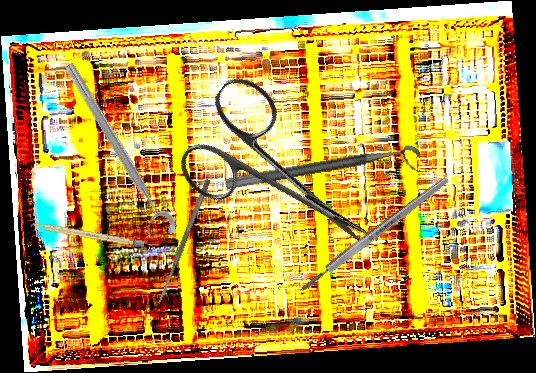Fixation Ring: (49, 59, 181, 246), (224, 143, 424, 207)
Iris Scissors: (165, 69, 407, 290)
Scalpel Handle: (298, 175, 451, 294), (30, 221, 145, 248)
Spatula Surgical: (155, 178, 212, 305)
